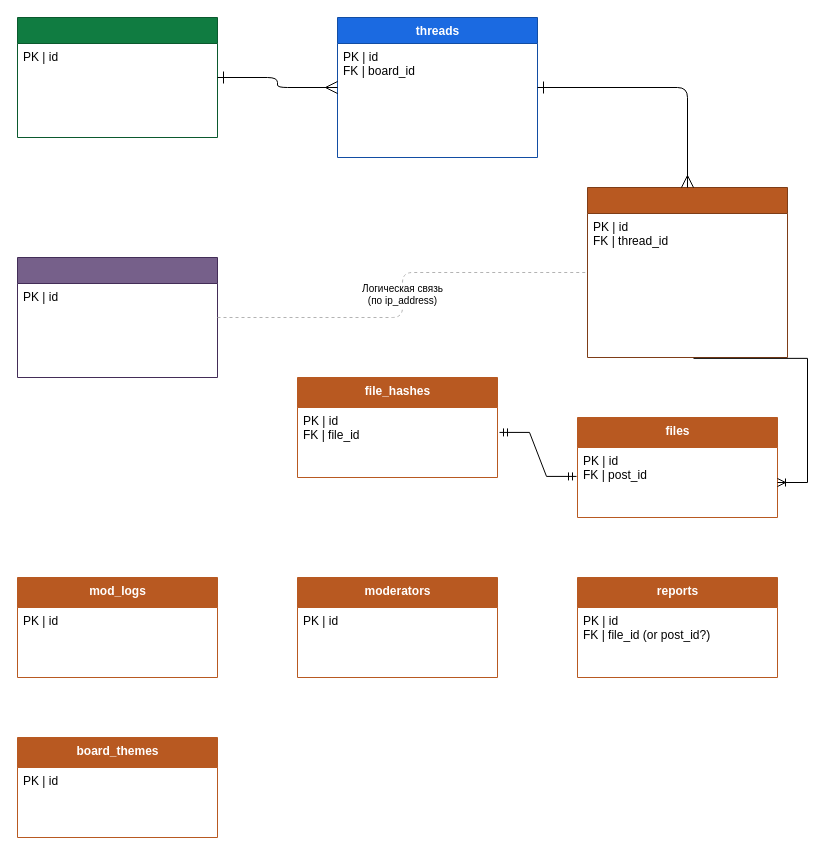
This 833x858 diagram has some shape labels left out. Here are the shapes that lost their labels. From the top down, the box of each, then its label:
(16, 16, 218, 138): boards
(586, 186, 788, 358): posts
(16, 256, 218, 378): bans
